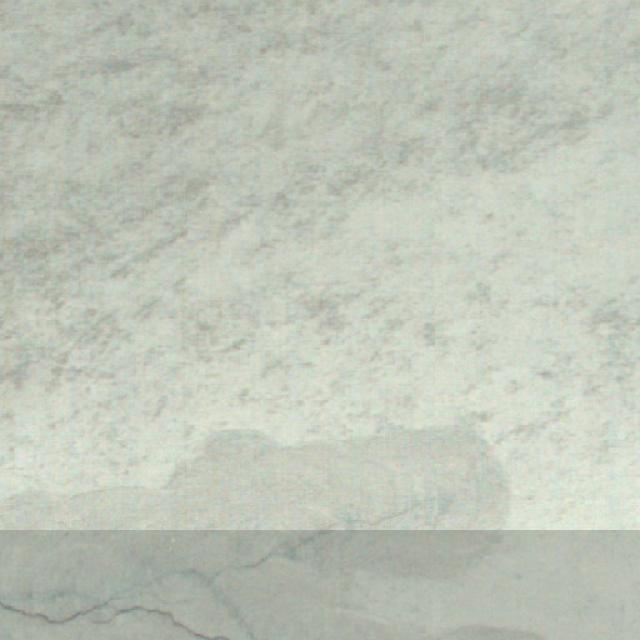Network: (0, 470, 640, 640)
Rippled: (4, 0, 640, 416)
